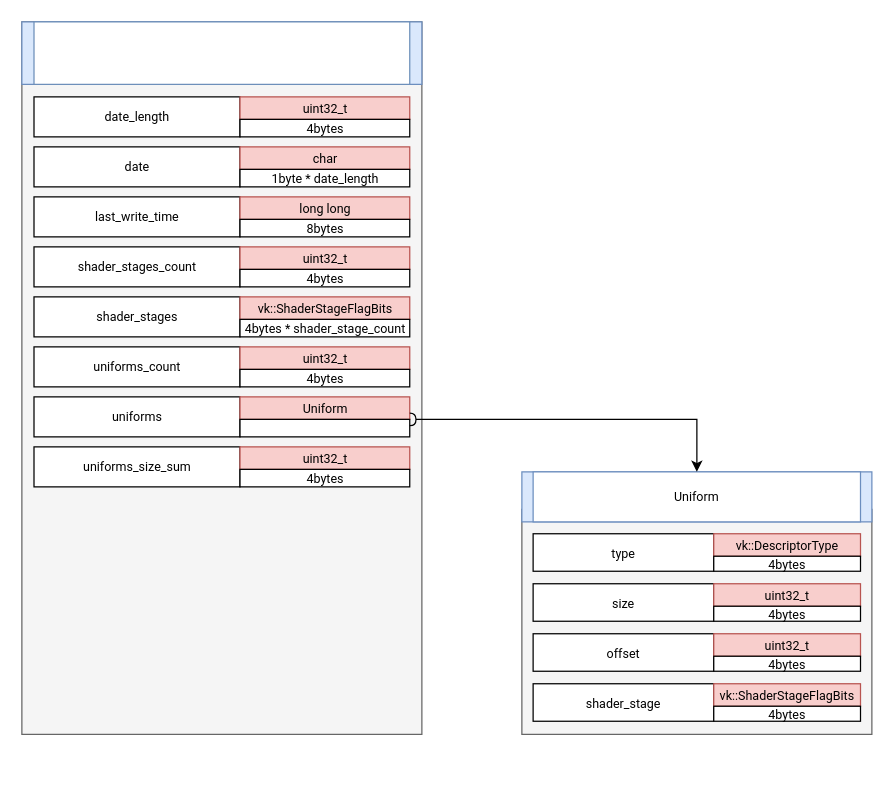
Image size: 894x806. Some labels were removed from this diagram. Each missing label, with the box of its shape:
16bytes*uniforms_count: (239, 418, 410, 437)
PSMB (Precompiled Shader Metadata Binary File): (33, 21, 410, 84)
